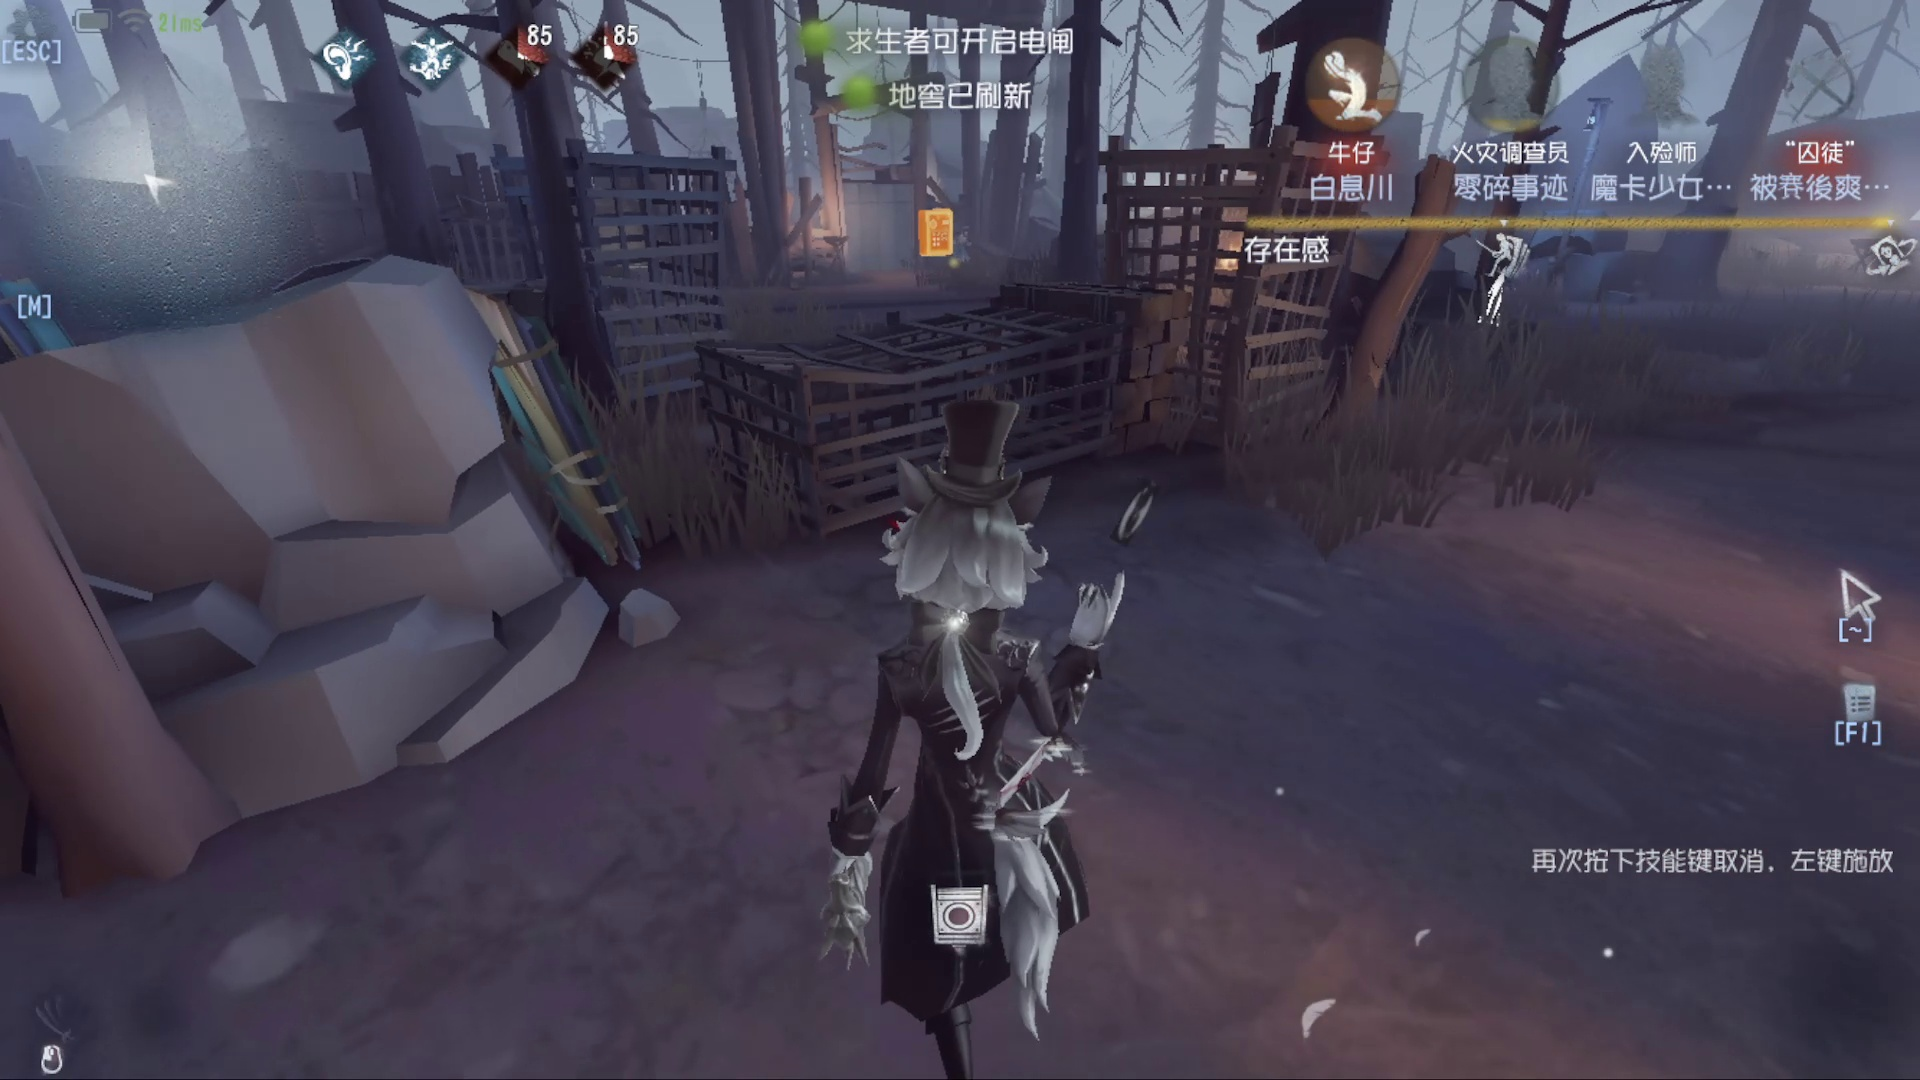木板: (443, 266, 641, 575)
